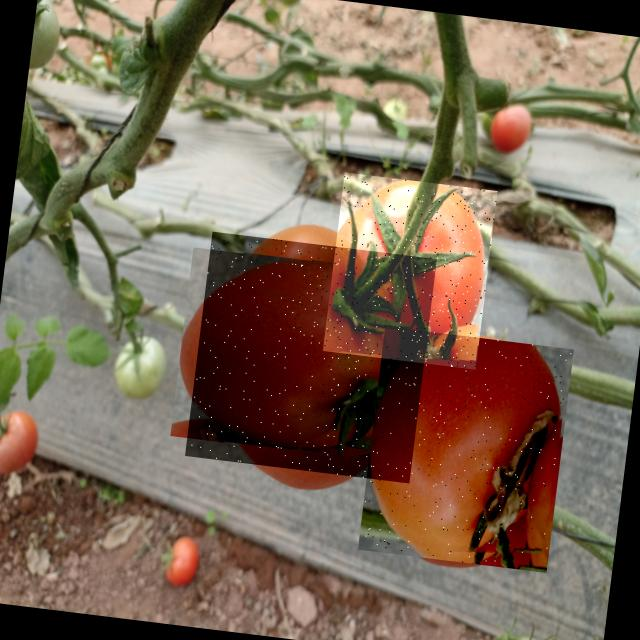Ripe Tomato: (185, 231, 436, 483), (358, 326, 574, 572), (322, 172, 497, 369)
